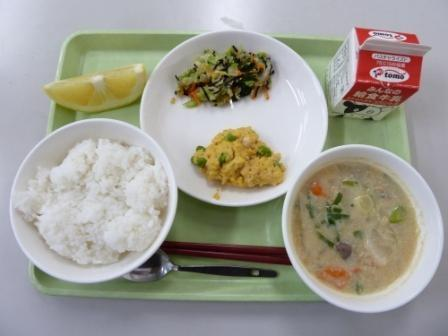Citrus: (35, 63, 155, 113)
Milk: (332, 22, 435, 119)
Rice: (6, 130, 163, 272)
Soups: (283, 151, 441, 302)
egg product: (186, 125, 293, 192)
salad with sauce: (166, 44, 280, 110)
